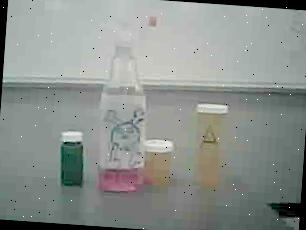Bottle A: (184, 97, 236, 192)
Bottle B: (137, 128, 184, 188)
Bottle C: (53, 127, 93, 192)
hazard: (90, 12, 155, 199)
